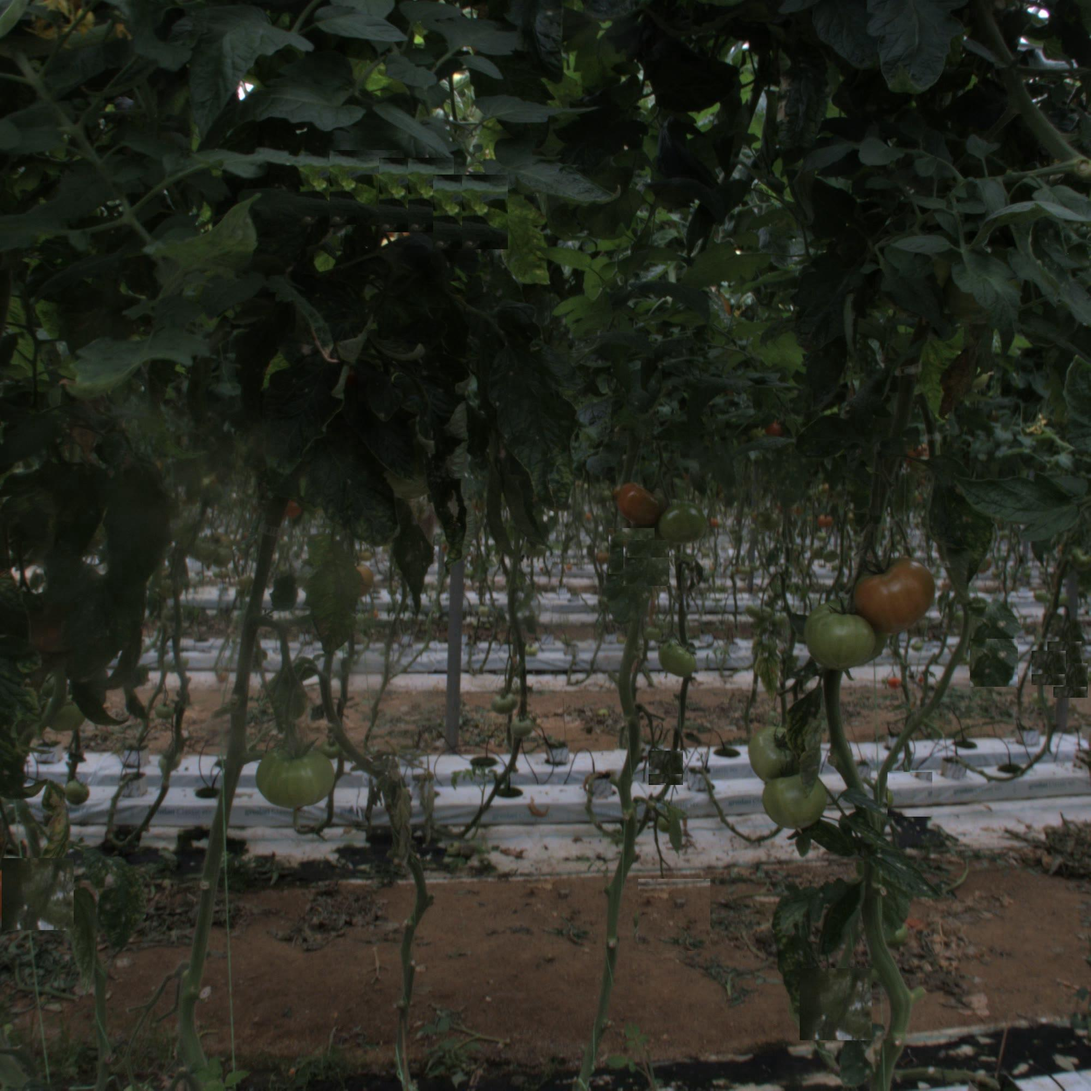semi-ripe: (858, 554, 932, 628), (616, 483, 661, 527)
unripe: (807, 596, 882, 670), (259, 736, 333, 810), (762, 766, 826, 831), (747, 724, 804, 781), (663, 504, 703, 543), (659, 638, 698, 677)
